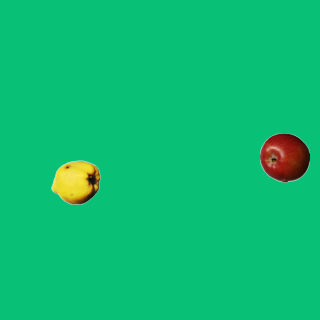Apple Braeburn: (259, 132, 309, 182)
Quince: (50, 157, 100, 207)
